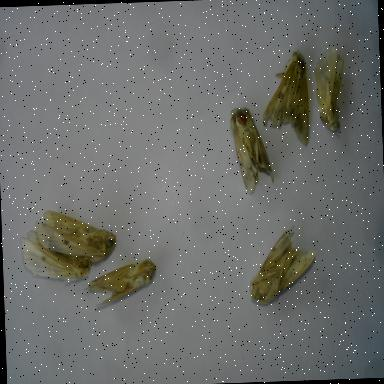abw: (244, 226, 320, 308), (258, 44, 314, 151), (31, 202, 119, 266), (16, 222, 94, 290), (227, 101, 277, 198), (80, 254, 160, 310), (311, 40, 349, 140)
